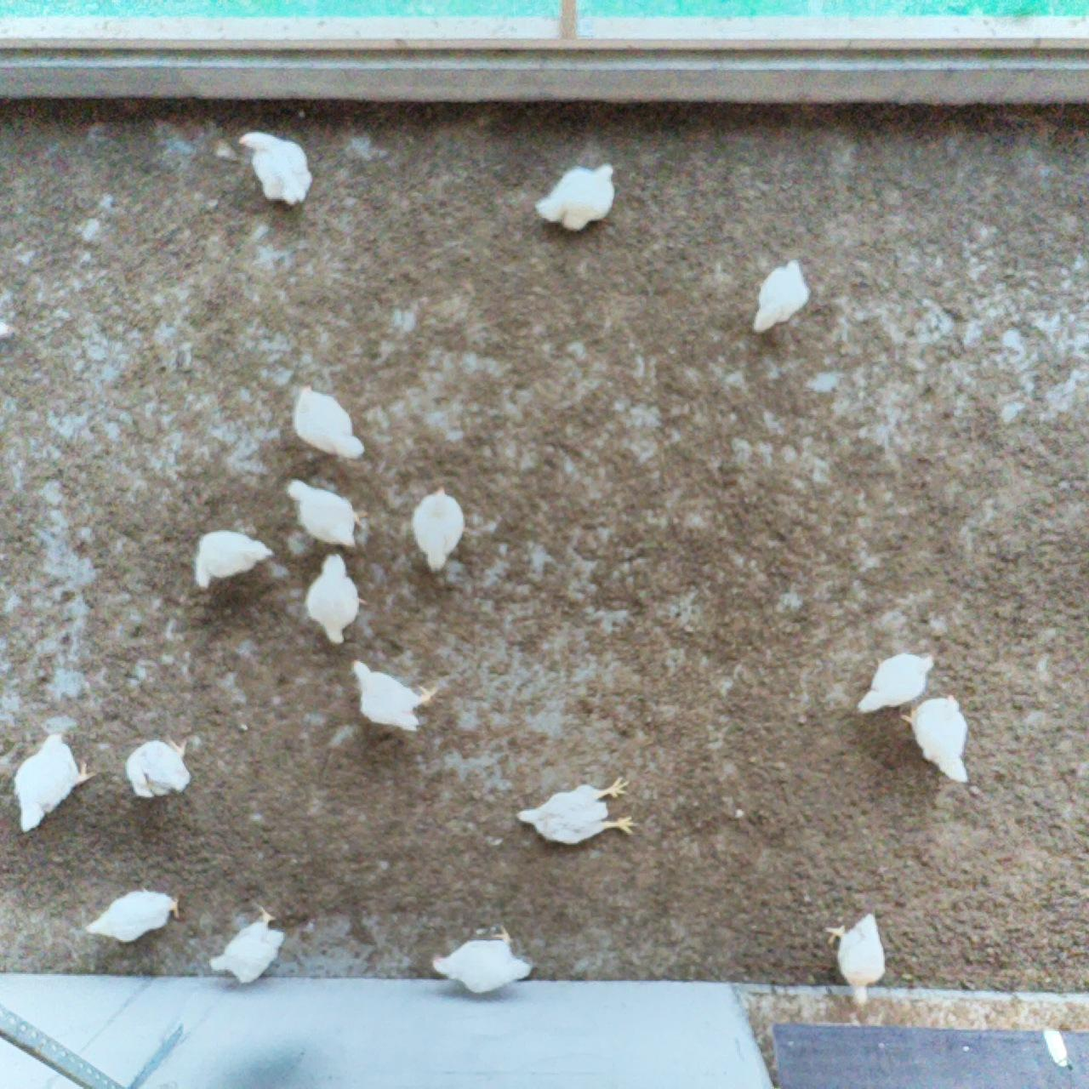chicken: (512, 773, 640, 849), (10, 728, 99, 837), (79, 867, 190, 945), (426, 921, 533, 996), (344, 653, 437, 738), (819, 903, 891, 1012), (280, 473, 373, 554), (898, 692, 974, 789), (207, 898, 289, 985), (301, 545, 369, 649), (533, 157, 621, 237), (235, 128, 317, 210), (854, 647, 938, 723), (290, 381, 365, 464), (190, 526, 278, 595), (745, 253, 812, 340), (408, 480, 469, 574), (121, 730, 195, 803)
